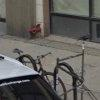Bicycle: (12, 36, 97, 97)
